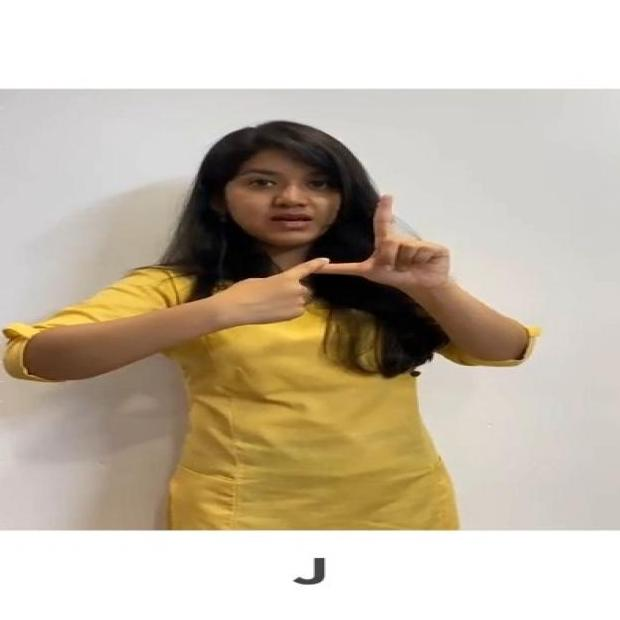I: (198, 188, 468, 331)
